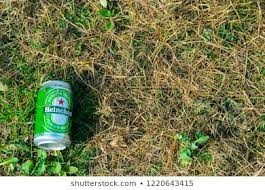can: (33, 80, 75, 150)
